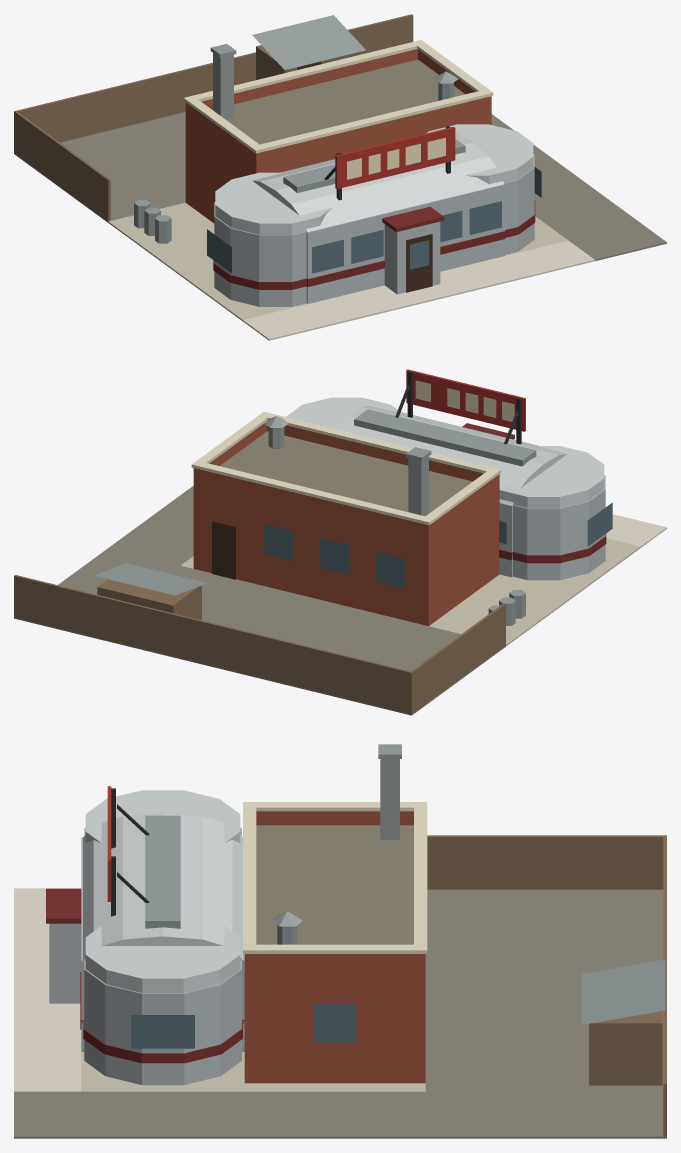
Rendered from highstreet_c.glb.
3 views of the same model, one above another, from view 1: azimuth 30°, elevation 25°; view 2: azimuth 150°, elevation 25°; view 3: azimuth 270°, elevation 25° (orthographic). The views are drawn at different scales.
Visible parts, largest first — view 1: highstreet_c; view 2: highstreet_c; view 3: highstreet_c.
Boxes of the visible parts, left/top/right/bottom form: highstreet_c: left=14, top=14, right=666, bottom=340; highstreet_c: left=14, top=369, right=666, bottom=715; highstreet_c: left=14, top=744, right=666, bottom=1138.
Size of the model in its own units: 18 by 6.89 by 20.
